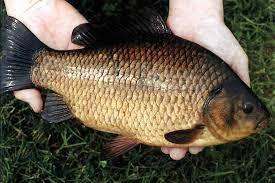Grass Carp: (1, 13, 271, 162)
